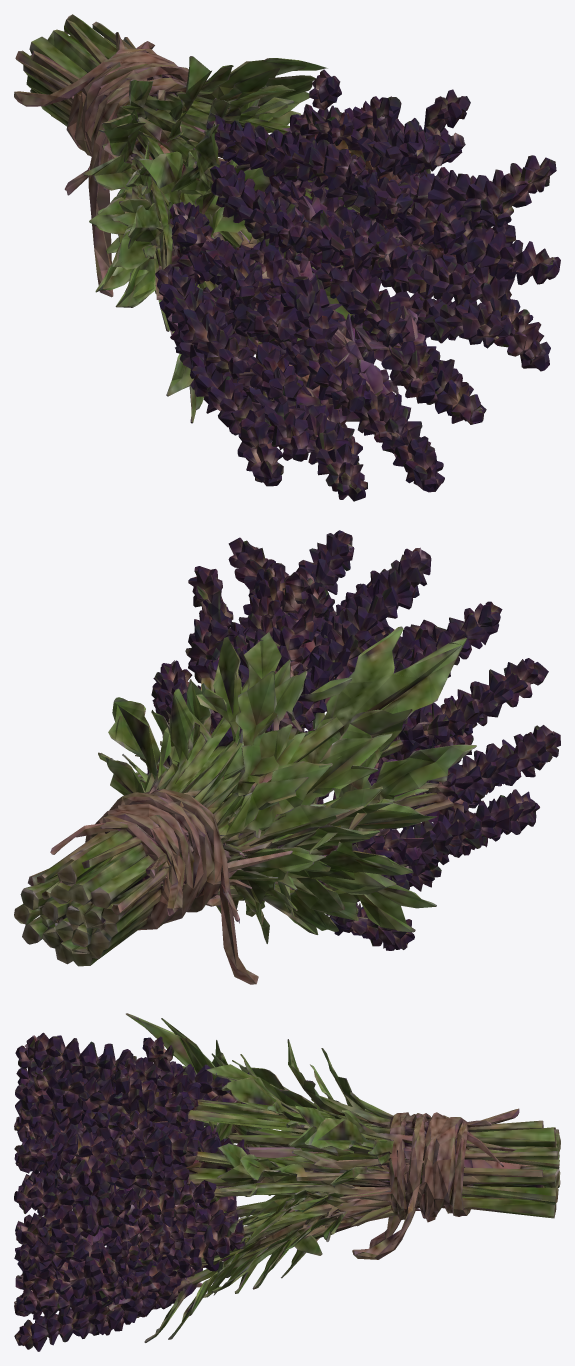
Rendered from dress-herb-bundle.glb.
3 renders of one model, top to bottom at view 1: azimuth 30°, elevation 25°; view 2: azimuth 150°, elevation 25°; view 3: azimuth 270°, elevation 25°, orthographic. The views are drawn at different scales.
Size of the model in its own units: 0.615 by 0.6253 by 0.9996.
1 material, 1 textured.
